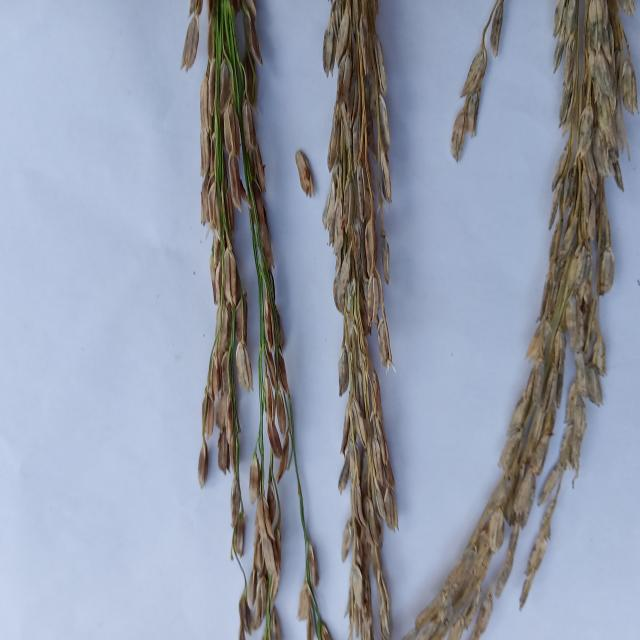Neck_Blast: (417, 2, 623, 632), (202, 2, 296, 640), (329, 5, 394, 640)
